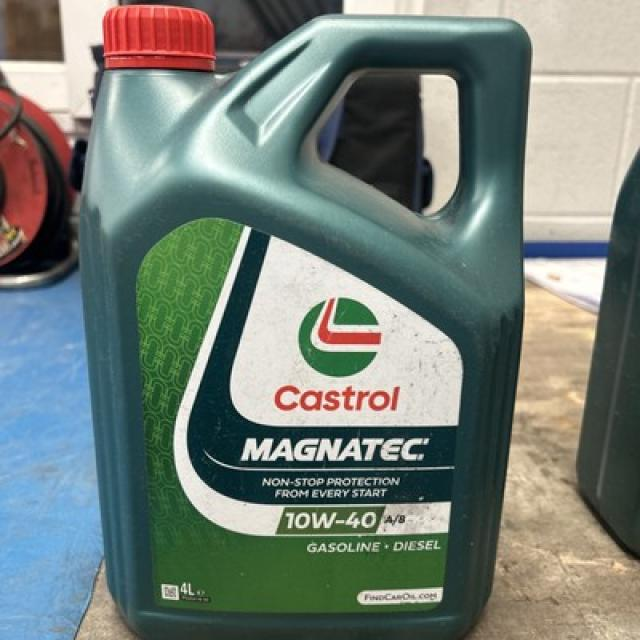motor_oil: (85, 1, 512, 640)
